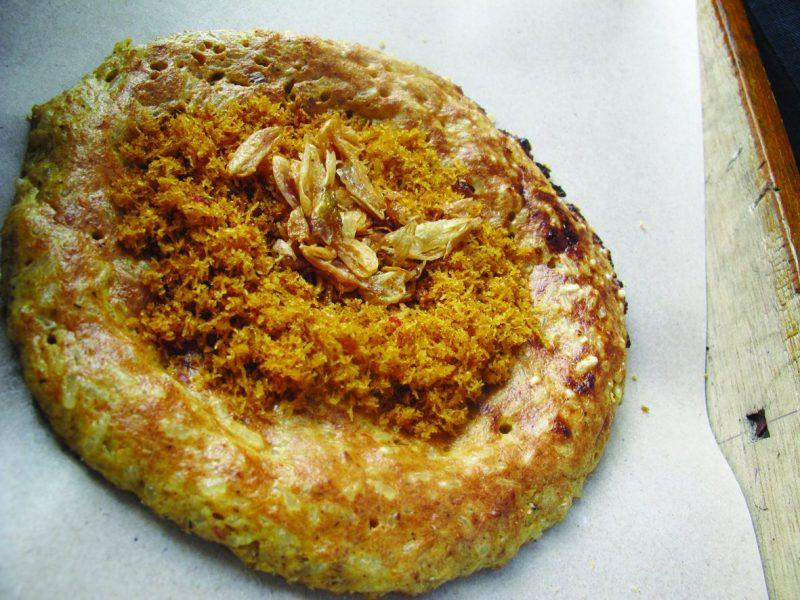kerak_telor: (1, 32, 629, 600)
